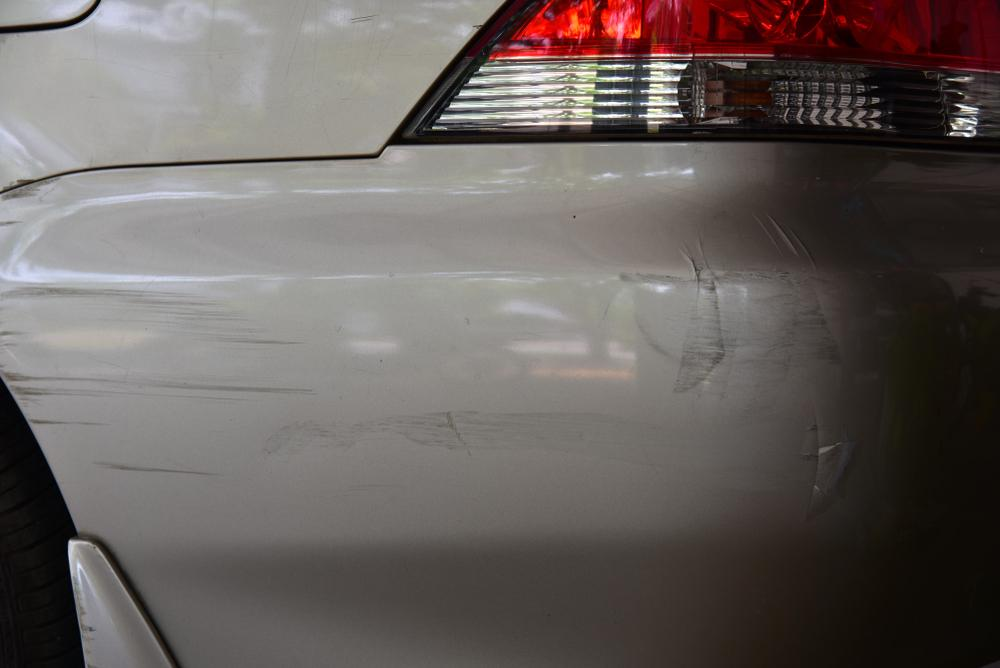scratch: (381, 220, 854, 463), (0, 282, 342, 496)
